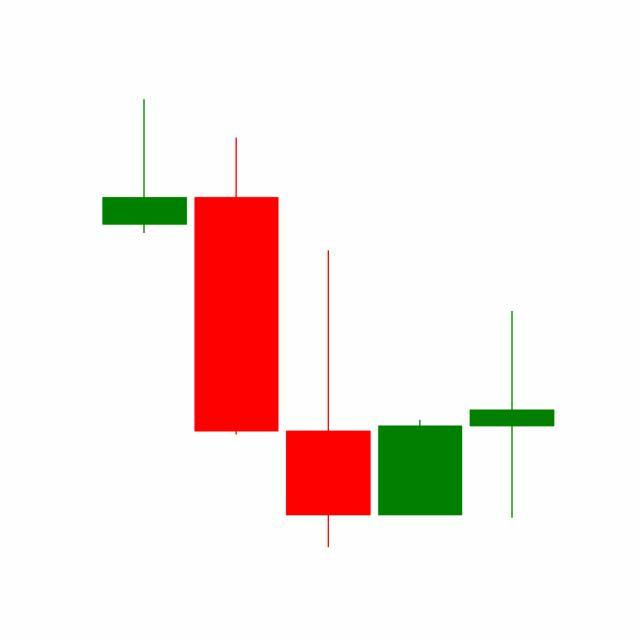Spinning Top: (466, 309, 559, 521)
